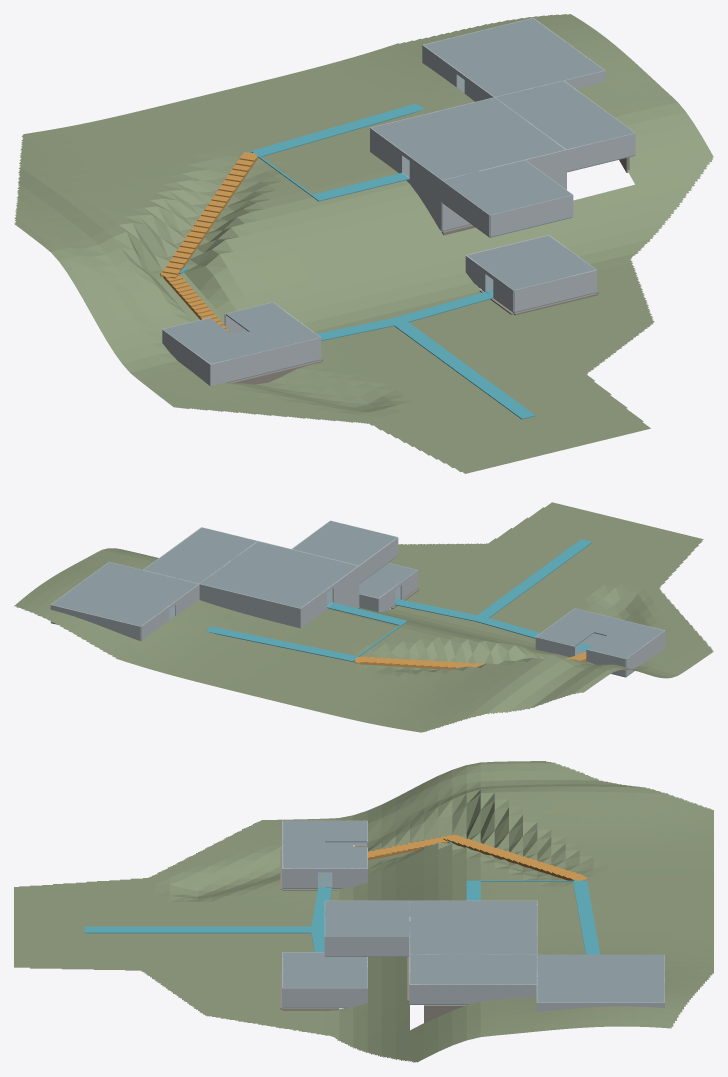
Rendered from benched-terrain.glb.
3 renders of one model, top to bottom at view 1: azimuth 30°, elevation 25°; view 2: azimuth 150°, elevation 25°; view 3: azimuth 270°, elevation 25°, orthographic. The views are drawn at different scales.
Visible parts, largest first — view 1: Saved editor stair bench terrain WLD-03, Ceiling cap gallery, Ceiling cap chamber, Ceiling cap fork, Ceiling cap alcove, Ceiling cap wash, Wall shelter S, Wall wash S, Wall alcove S, L12 support 0, Wall fork S, Ceiling cap shelter.003 (+12 smaller); view 2: Saved editor stair bench terrain WLD-03, Ceiling cap gallery, Ceiling cap chamber, Ceiling cap fork, Ceiling cap alcove, Wall gallery N, L12 support 0, Ceiling cap wash, Opened stair shell Wall shelter N, Wall chamber N, Ceiling cap shelter.003, Ceiling cap shelter.004 (+13 smaller); view 3: Saved editor stair bench terrain WLD-03, Ceiling cap gallery, Ceiling cap chamber, Ceiling cap fork, Ceiling cap alcove, Ceiling cap wash, Wall fork E, Wall alcove E, Wall wash E, L12 support 0, Ceiling cap shelter, Ceiling cap shelter.001 (+8 smaller).
Boxes of the visible parts, <box> form: Saved editor stair bench terrain WLD-03: <box>14,14,713,473</box>; Ceiling cap gallery: <box>371,97,564,179</box>; Ceiling cap chamber: <box>424,18,604,96</box>; Ceiling cap fork: <box>495,80,634,149</box>; Ceiling cap alcove: <box>443,160,572,214</box>; Ceiling cap wash: <box>467,235,595,290</box>; Wall shelter S: <box>210,337,320,385</box>; Wall wash S: <box>514,270,596,311</box>; Wall alcove S: <box>490,195,572,236</box>; L12 support 0: <box>246,103,424,156</box>; Wall fork S: <box>566,133,635,171</box>; Ceiling cap shelter.003: <box>226,302,296,331</box>; Saved editor stair bench terrain WLD-03: <box>14,502,713,732</box>; Ceiling cap gallery: <box>200,541,357,608</box>; Ceiling cap chamber: <box>51,562,197,626</box>; Ceiling cap fork: <box>144,527,256,583</box>; Ceiling cap alcove: <box>292,521,396,565</box>; Wall gallery N: <box>199,583,300,626</box>; L12 support 0: <box>206,626,357,662</box>; Ceiling cap wash: <box>359,563,416,598</box>; Opened stair shell Wall shelter N: <box>535,637,625,676</box>; Wall chamber N: <box>50,604,140,641</box>; Ceiling cap shelter.003: <box>536,623,593,646</box>; Ceiling cap shelter.004: <box>556,608,612,631</box>; Saved editor stair bench terrain WLD-03: <box>14,761,713,1062</box>; Ceiling cap gallery: <box>410,901,537,954</box>; Ceiling cap chamber: <box>537,954,664,1002</box>; Ceiling cap fork: <box>410,954,537,984</box>; Ceiling cap alcove: <box>325,901,409,936</box>; Ceiling cap wash: <box>282,952,367,987</box>; Wall fork E: <box>410,984,537,1003</box>; Wall alcove E: <box>325,937,409,956</box>; Wall wash E: <box>282,988,367,1007</box>; L12 support 0: <box>573,878,600,954</box>; Ceiling cap shelter: <box>325,820,367,842</box>; Ceiling cap shelter.001: <box>282,820,324,841</box>.
Bounding box in the file's own units: 91 × 12.65 × 99.
Materials: 20 (12 with a texture image).
